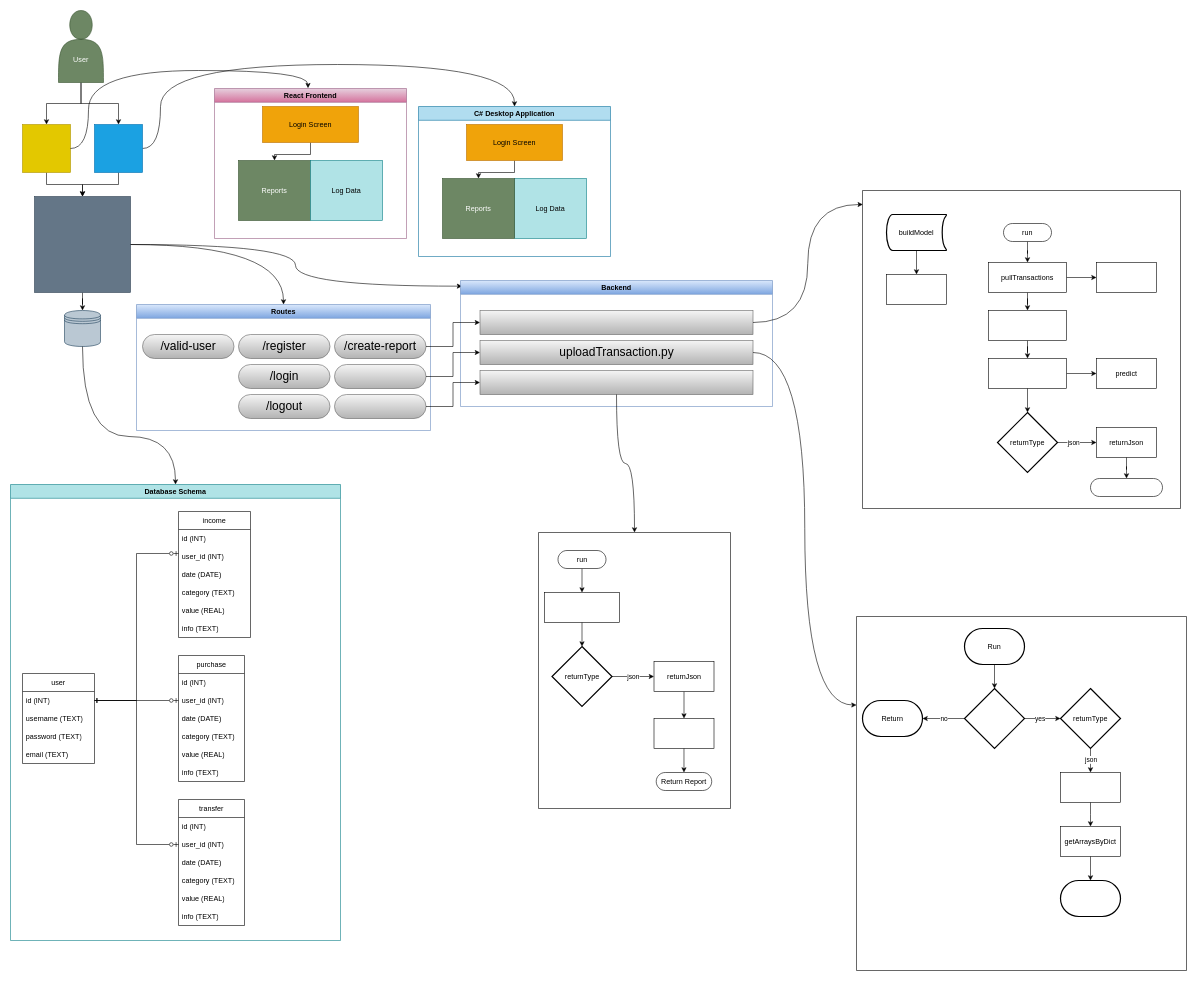
This 1197x981 diagram has some shape labels left out. Here are the shapes that lost their labels. From the top down, the centre of each, then its label:
(46,148): Website
(118,148): Windows Desktop
(82,244): API
(916,289): createCLassifier
(1126,277): normalizeData
(82,328): Database
(616,322): getTransaction.py
(1027,325): groupTransactions
(380,376): /upload-report
(616,382): pullReport.py
(1027,373): categorizeTransactions
(380,406): /get-report
(1126,487): return Transactions
(582,607): getDatabaseOutput
(683,733): getCategories
(994,718): validUser
(1090,787): runJson
(1090,898): Upload Report
